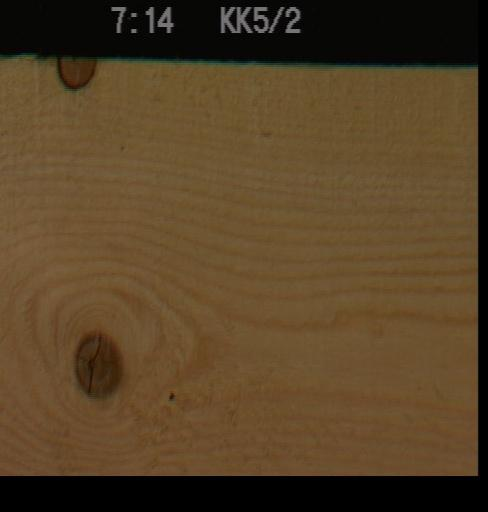sound_knot: (72, 330, 122, 398)
